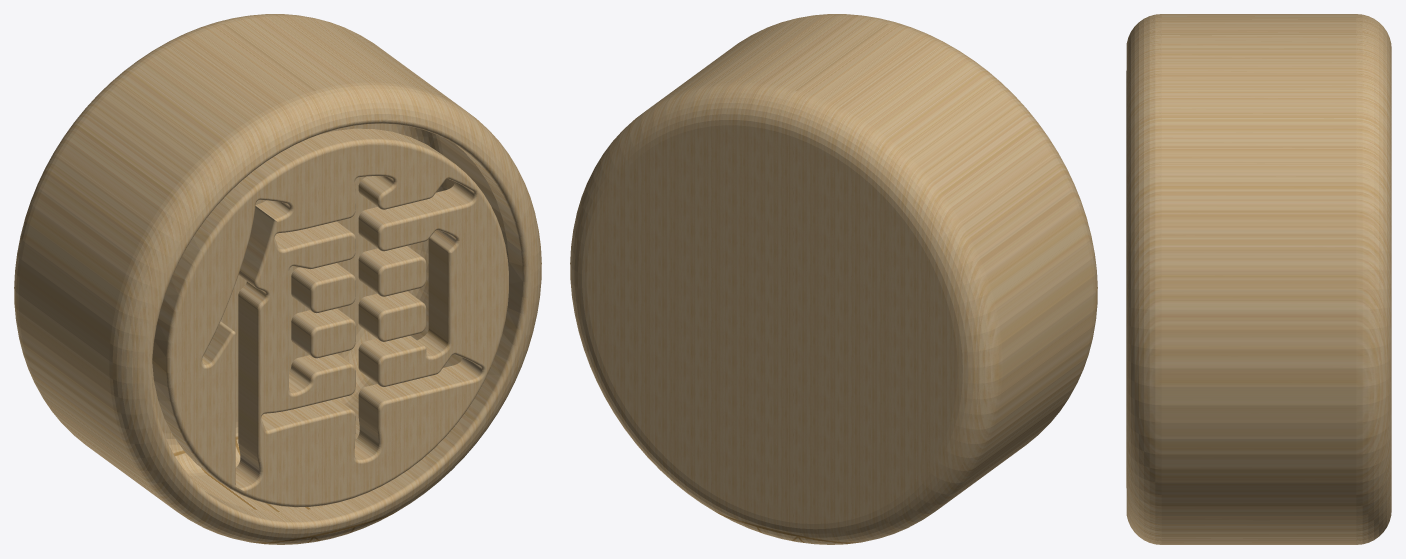
The model's file is h01_chess_red_chariot_wood.obj.
The picture shows the model from 3 angles, left to right: view 1: azimuth 30°, elevation 25°; view 2: azimuth 150°, elevation 25°; view 3: azimuth 270°, elevation 25°; orthographic projection. The views are drawn at different scales.
Size of the model in its own units: 0.03 by 0.03 by 0.015.
Materials: 1 (1 with a texture image).
